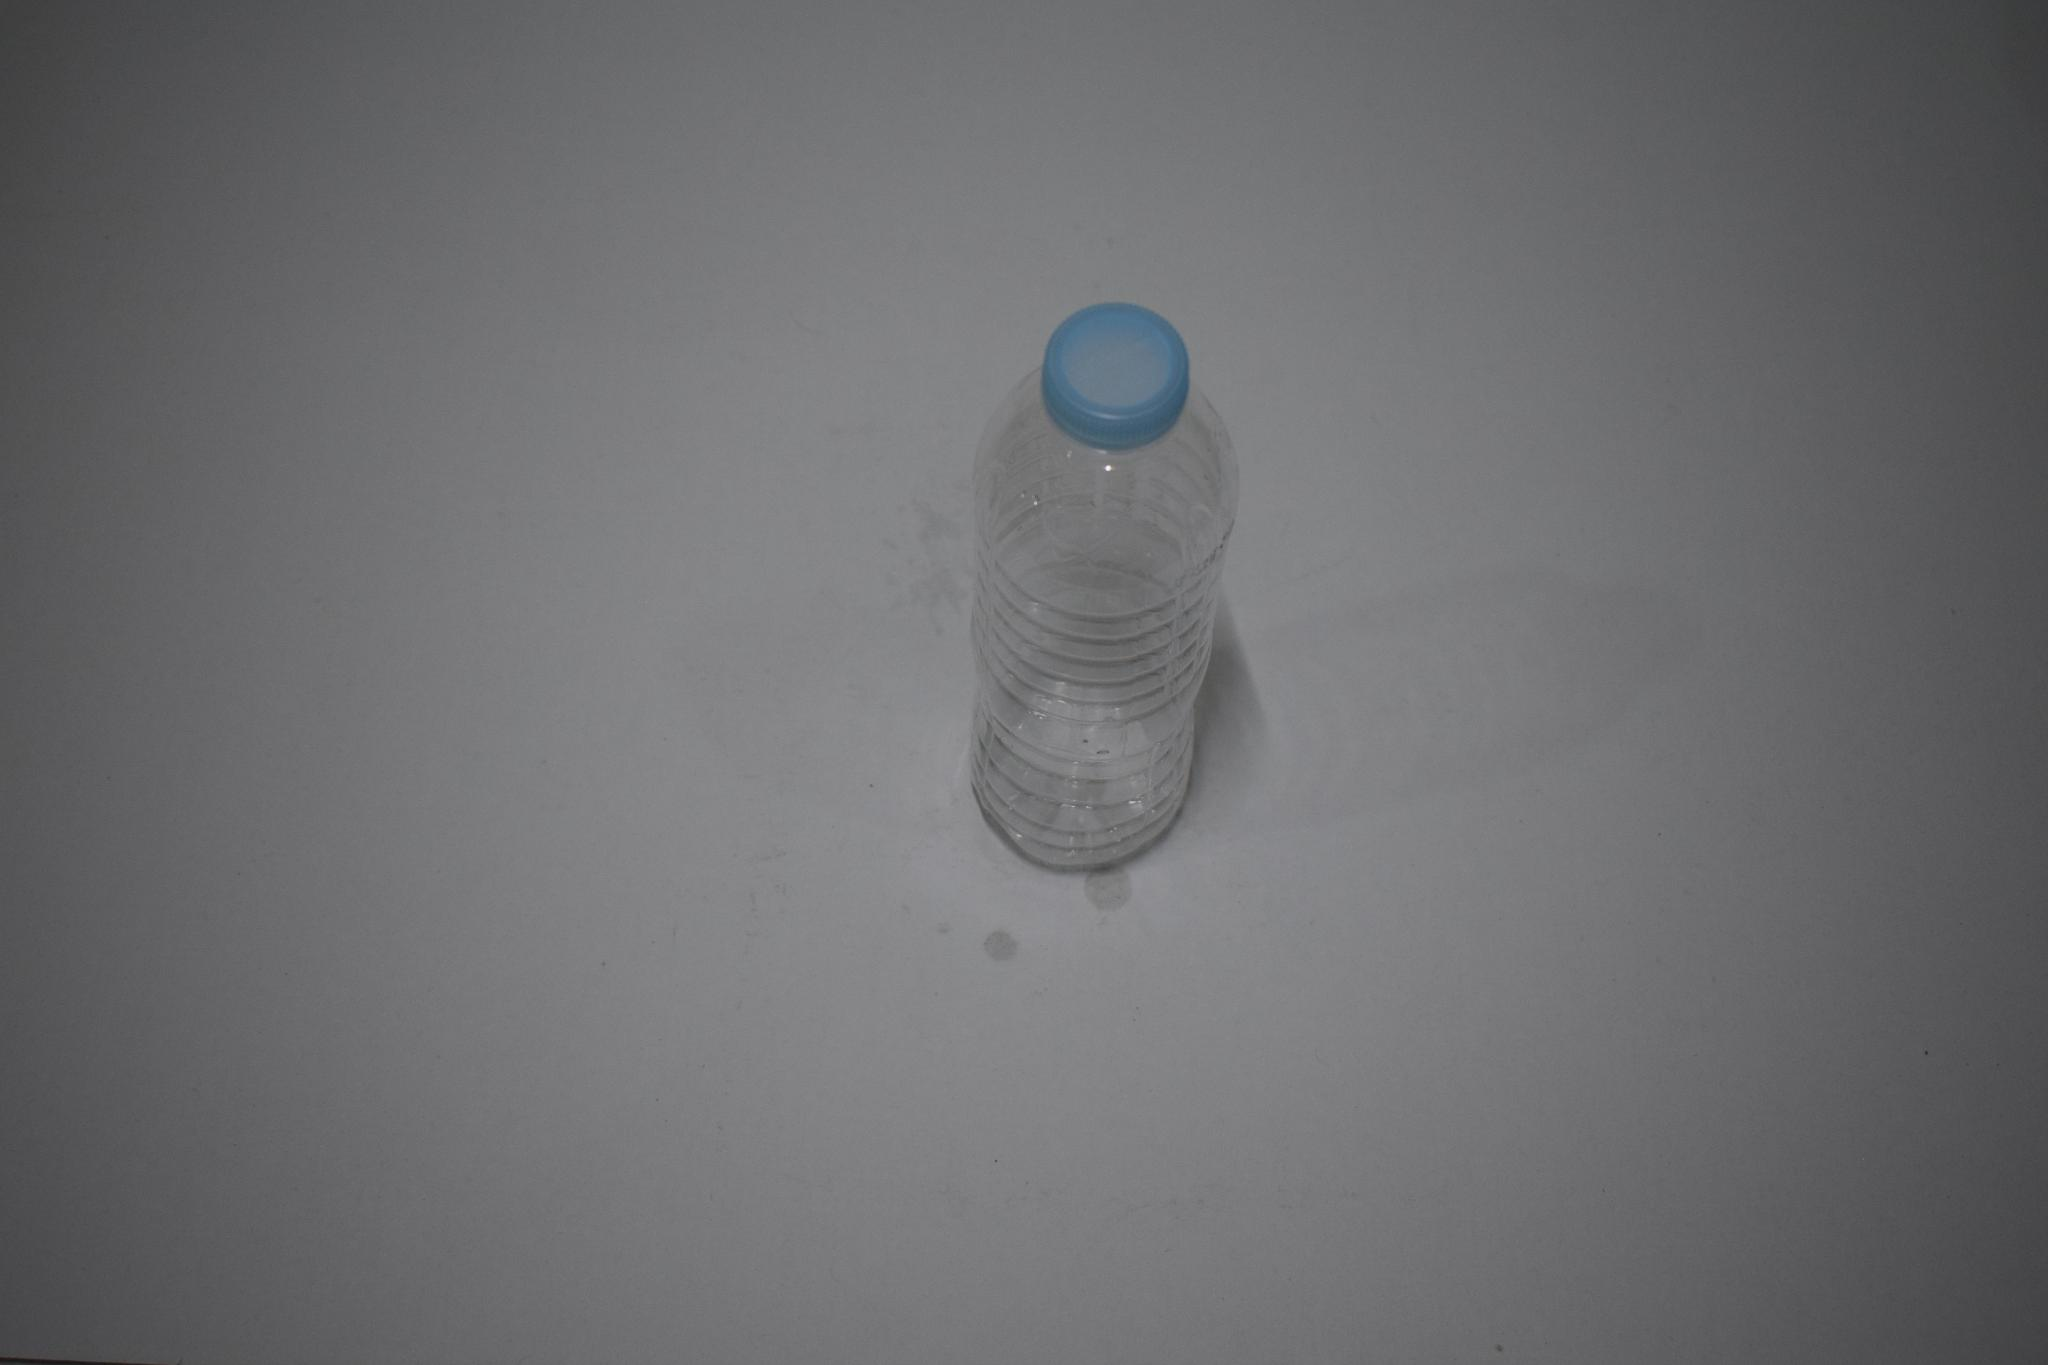bottle: (953, 294, 1259, 884)
